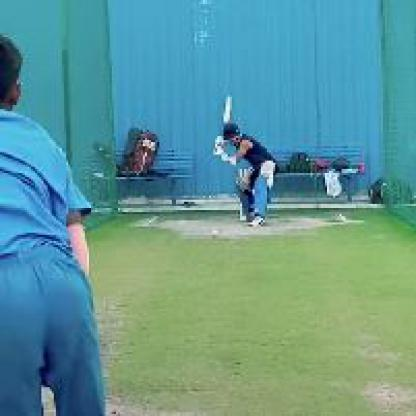ball: (209, 228, 223, 242)
